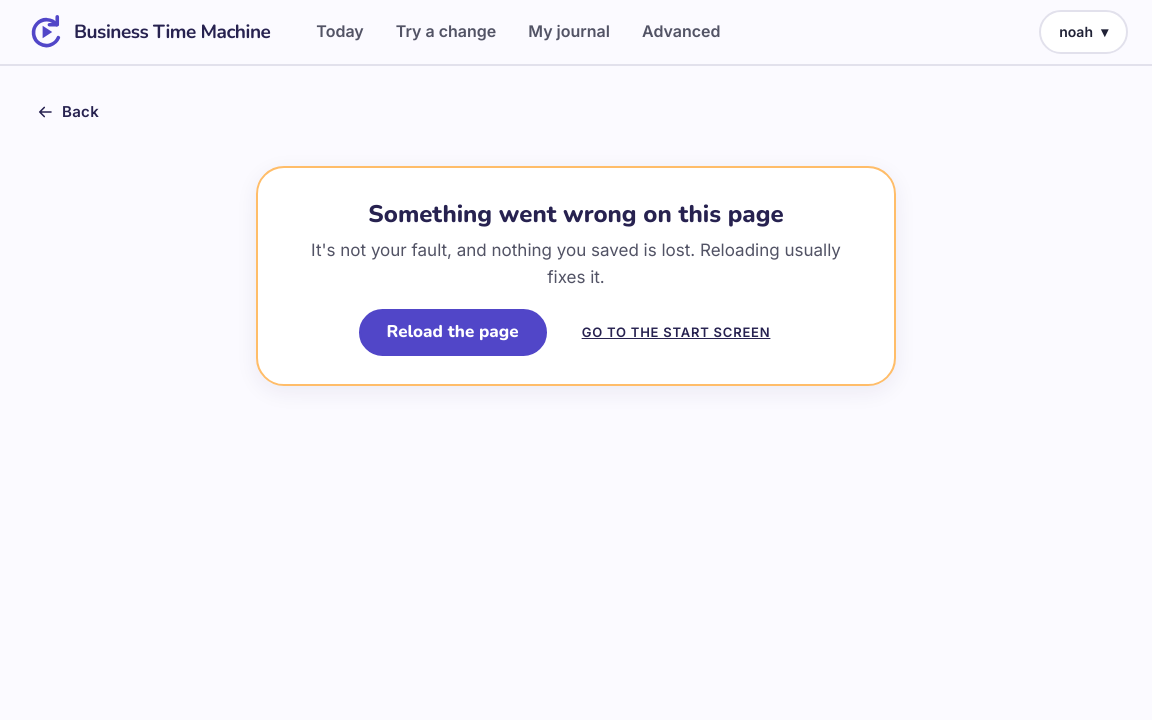
it: failed loads: a calm message and Try again, never a raw error or a blank page › moving to another page after a break works again
Check: the heading "Something went wrong on this page" is shown, box left=368, top=198, right=784, bottom=230
What coordinates should you click on to do the following:
click the link "Today"
I would click on:
 (340, 31)
Its box is left=316, top=21, right=364, bottom=41.
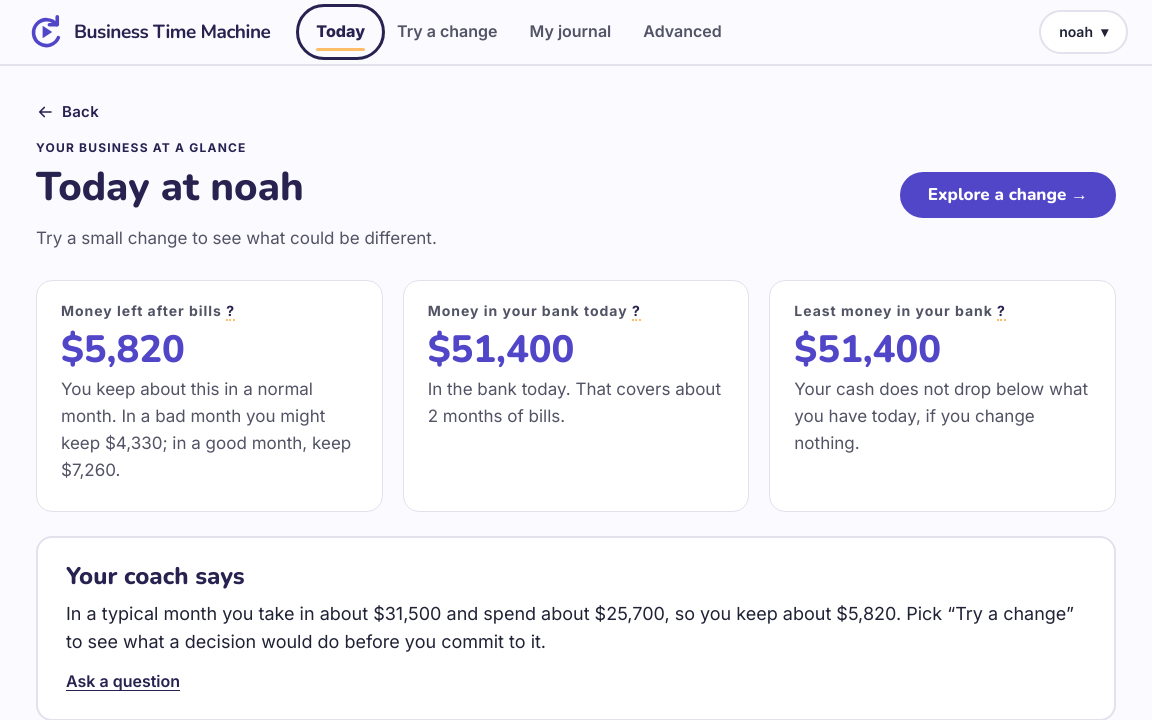
Check: the heading "Today at noah" is shown, box left=36, top=160, right=304, bottom=214
